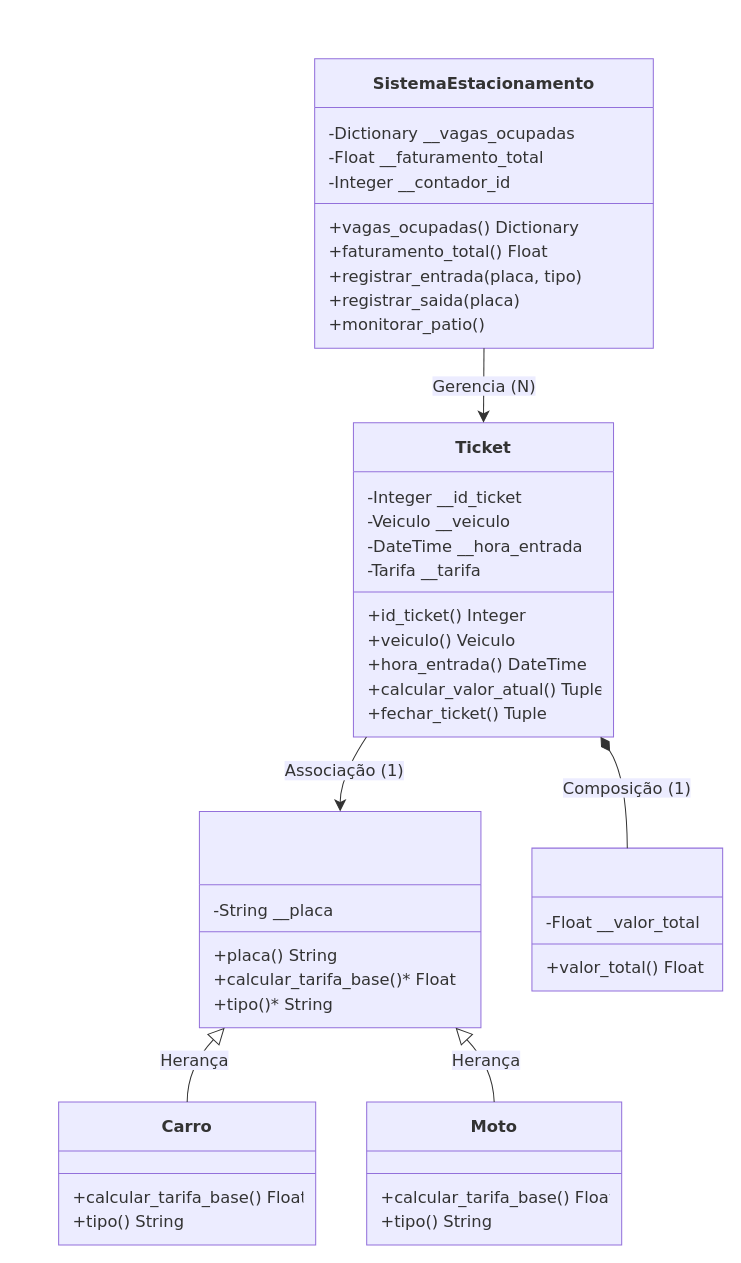
Some shapes in this 741 by 1263 pixel diagram are drawn without their labels. The shapes that lost their labels are listed below. From the top down, each one's box as (x1, y1, x2, y2) in pixels, then its label:
(198, 810, 481, 1028): «abstract» Veiculo
(531, 847, 723, 991): Tarifa
